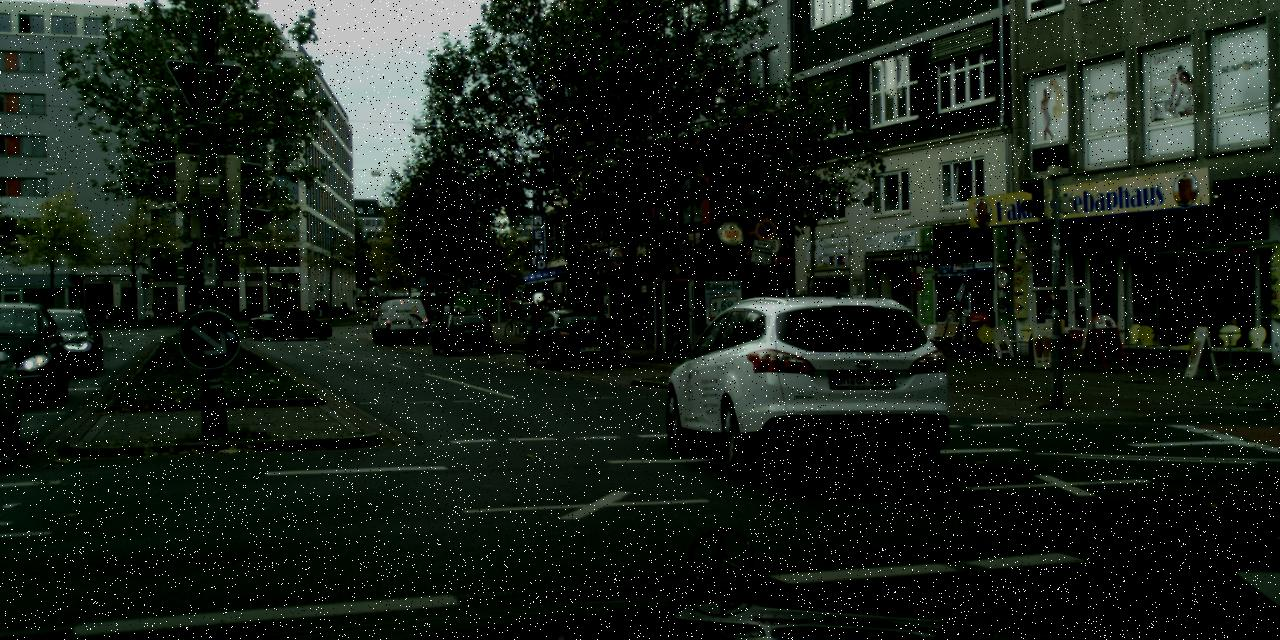ped: (314, 299, 329, 318), (160, 298, 168, 320), (152, 298, 160, 320), (225, 299, 233, 319)
